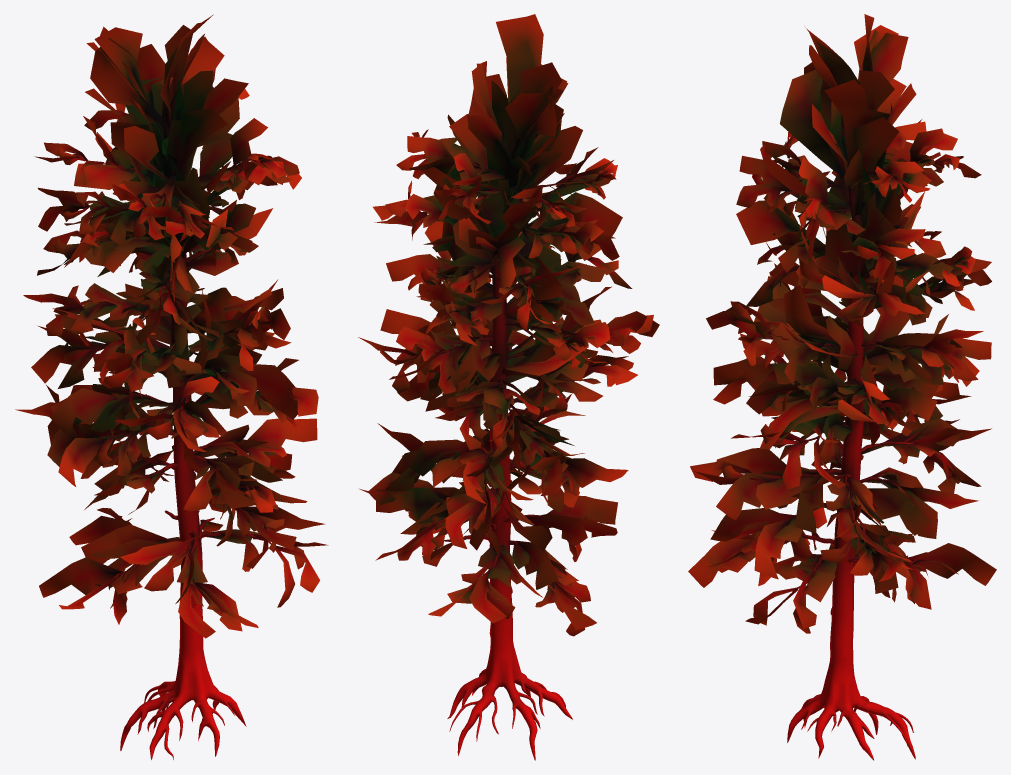
Rendered from JuniperGCATA_G_Dry.fbx.
3 renders of one model, left to right at view 1: azimuth 30°, elevation 25°; view 2: azimuth 150°, elevation 25°; view 3: azimuth 270°, elevation 25°, orthographic. The views are drawn at different scales.
Visible parts, largest first — view 1: JuniperGCATAG_Dry_Leaves_LOD0, JuniperGCATAG_Dry_Bark_LOD0; view 2: JuniperGCATAG_Dry_Leaves_LOD0, JuniperGCATAG_Dry_Bark_LOD0; view 3: JuniperGCATAG_Dry_Leaves_LOD0, JuniperGCATAG_Dry_Bark_LOD0.
Boxes of the visible parts, left/top/right/bottom form: JuniperGCATAG_Dry_Leaves_LOD0: left=15, top=14, right=328, bottom=638; JuniperGCATAG_Dry_Bark_LOD0: left=78, top=115, right=280, bottom=759; JuniperGCATAG_Dry_Leaves_LOD0: left=358, top=14, right=659, bottom=636; JuniperGCATAG_Dry_Bark_LOD0: left=412, top=145, right=594, bottom=760; JuniperGCATAG_Dry_Leaves_LOD0: left=688, top=14, right=996, bottom=633; JuniperGCATAG_Dry_Bark_LOD0: left=761, top=157, right=938, bottom=760.
Size of what is drawn, in the model's own units: 8.97 by 23.76 by 9.1.
